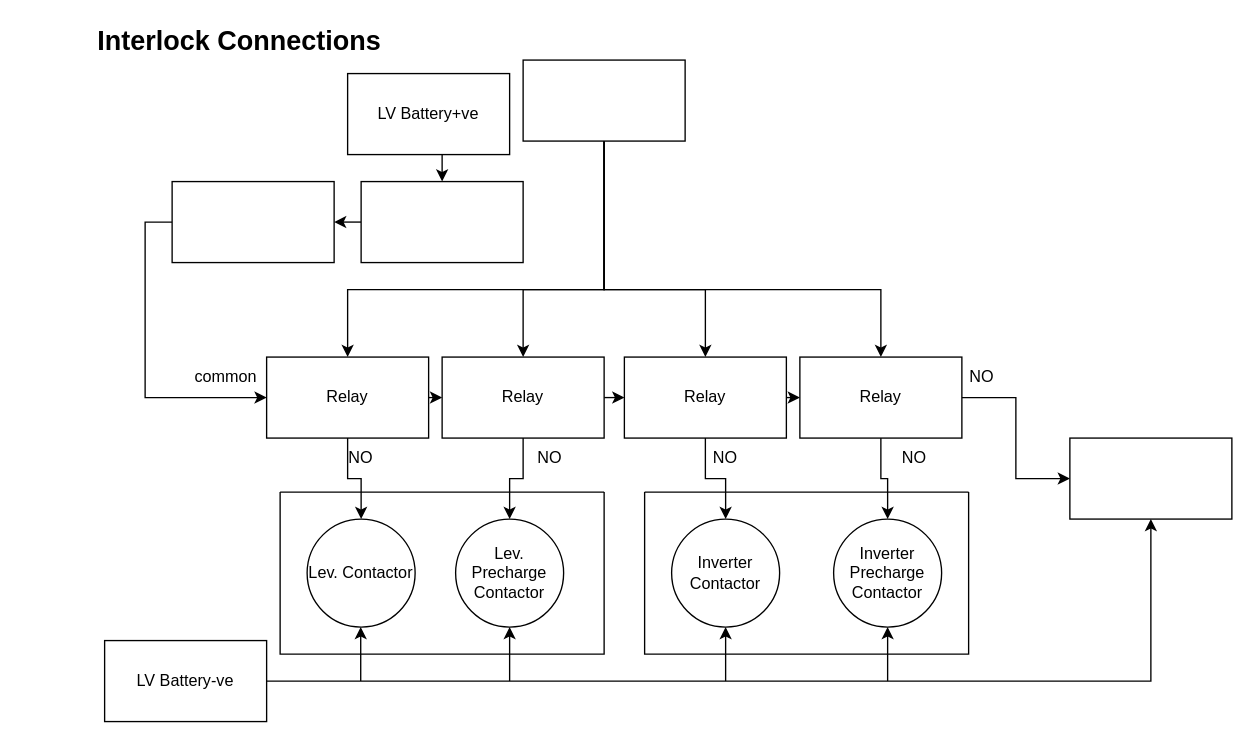
The diagram is 1256 pixels wide and 745 high, and some of its shapes have lost their labels. The box of each missing label's shape, as (x1, y1, x2, y2) in pixels:
Braking DCV: (1069, 437, 1232, 519)
E-Stop: (171, 180, 334, 263)
Inertial Switch: (360, 180, 523, 263)
VCU: (522, 59, 685, 141)
